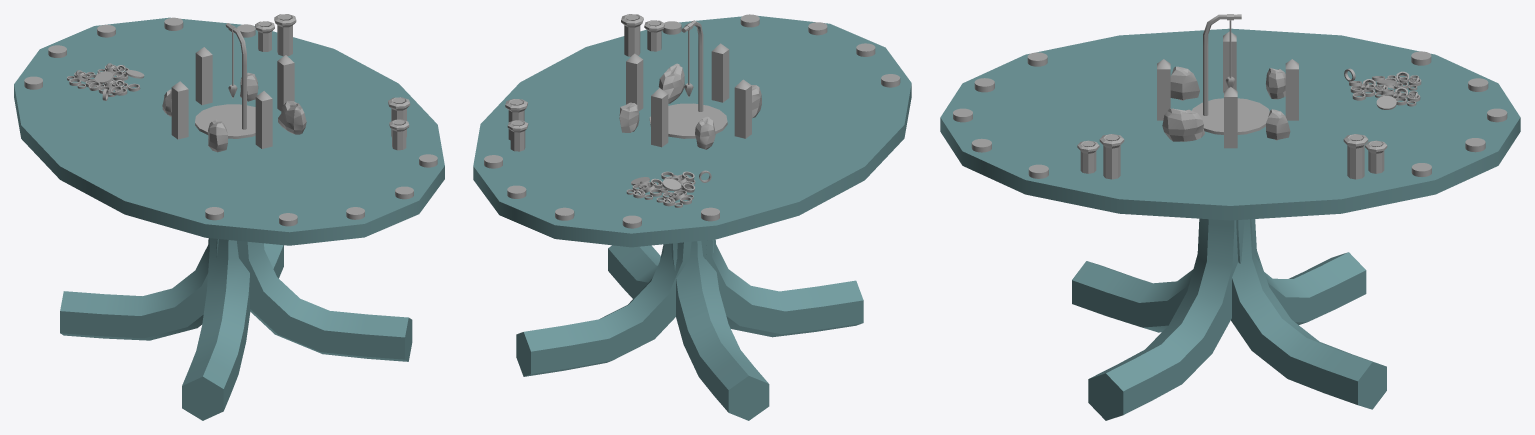
File: mesa3Invo.fbx
3 views of the same model, side by side, from view 1: azimuth 30°, elevation 25°; view 2: azimuth 150°, elevation 25°; view 3: azimuth 270°, elevation 25° (orthographic). The views are drawn at different scales.
Visible parts, largest first — view 1: polySurface5087, polySurface5033, polySurface5036, polySurface5052, polySurface5064, polySurface5072, polySurface5017, polySurface5021, polySurface5011, polySurface5070, polySurface5013, polySurface5020 (+1 smaller); view 2: polySurface5087, polySurface5033, polySurface5036, polySurface5072, polySurface5052, polySurface5064, polySurface5017, polySurface5021, polySurface5007, polySurface5070, polySurface5023, polySurface5074 (+2 smaller); view 3: polySurface5087, polySurface5033, polySurface5036, polySurface5021, polySurface5017, polySurface5013, polySurface5052, polySurface5011, polySurface5007, polySurface5072, polySurface5070, polySurface5064 (+4 smaller).
Boxes of the visible parts, x1,y1,x2,y2 form: polySurface5087: (14, 17, 444, 420); polySurface5033: (24, 17, 437, 226); polySurface5036: (195, 104, 255, 138); polySurface5052: (195, 47, 212, 105); polySurface5064: (171, 81, 188, 139); polySurface5072: (255, 91, 272, 148); polySurface5017: (277, 55, 294, 110); polySurface5021: (278, 101, 306, 134); polySurface5011: (274, 14, 296, 56); polySurface5070: (225, 23, 246, 129); polySurface5013: (208, 119, 227, 152); polySurface5020: (389, 119, 409, 150); polySurface5087: (473, 15, 911, 420); polySurface5033: (484, 14, 900, 228); polySurface5036: (649, 103, 727, 138); polySurface5072: (711, 43, 729, 102); polySurface5052: (651, 88, 668, 147); polySurface5064: (734, 79, 751, 138); polySurface5017: (626, 53, 643, 110); polySurface5021: (658, 63, 684, 103); polySurface5007: (621, 14, 643, 56); polySurface5070: (681, 20, 703, 111); polySurface5023: (695, 116, 715, 149); polySurface5074: (619, 102, 639, 132); polySurface5087: (940, 28, 1520, 420); polySurface5033: (953, 51, 1507, 178); polySurface5036: (1192, 98, 1269, 134); polySurface5021: (1162, 108, 1204, 141); polySurface5017: (1224, 87, 1237, 148); polySurface5013: (1170, 66, 1199, 100); polySurface5052: (1285, 59, 1298, 120); polySurface5011: (1343, 134, 1368, 179); polySurface5007: (1099, 134, 1124, 179); polySurface5072: (1157, 59, 1170, 120); polySurface5070: (1203, 14, 1241, 115); polySurface5064: (1223, 31, 1236, 92).
Size of the model in its own units: 181 by 164 by 250.
